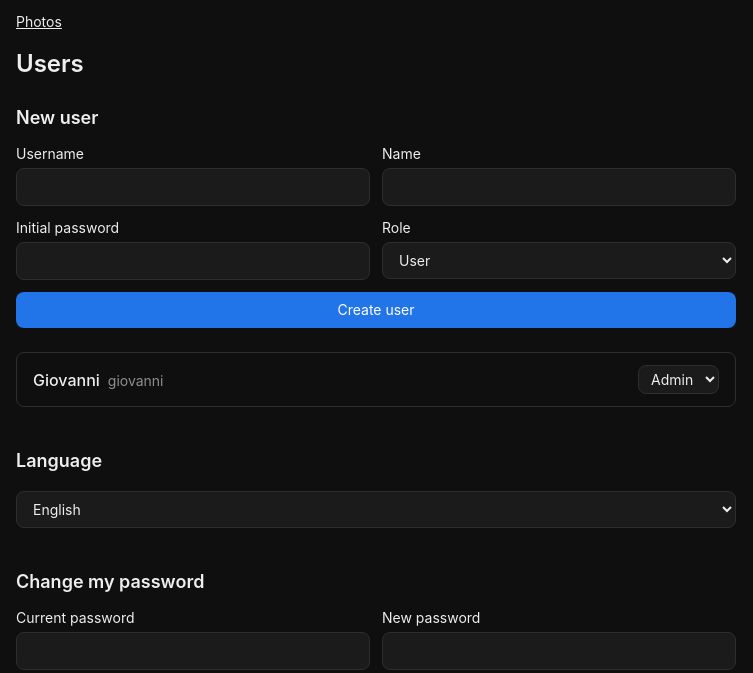
Test: UsersView › dopo la creazione Bob compare nell’elenco
The image size is (753, 673).
Type "bob" into the field with test id "users-username". click: (193, 187)
box: [16,168,370,206]
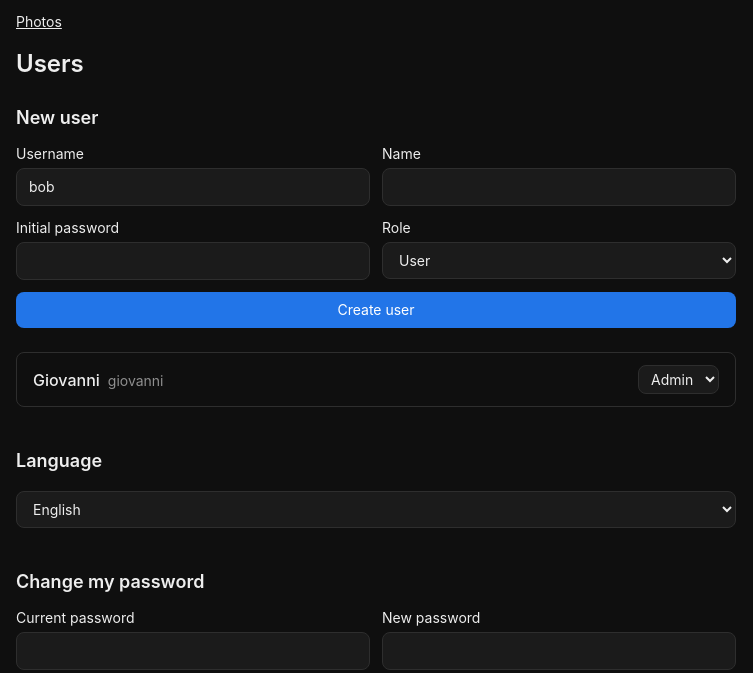
Type "Bob" into the field with test id "users-display-name". click: (559, 187)
box: [382,168,736,206]
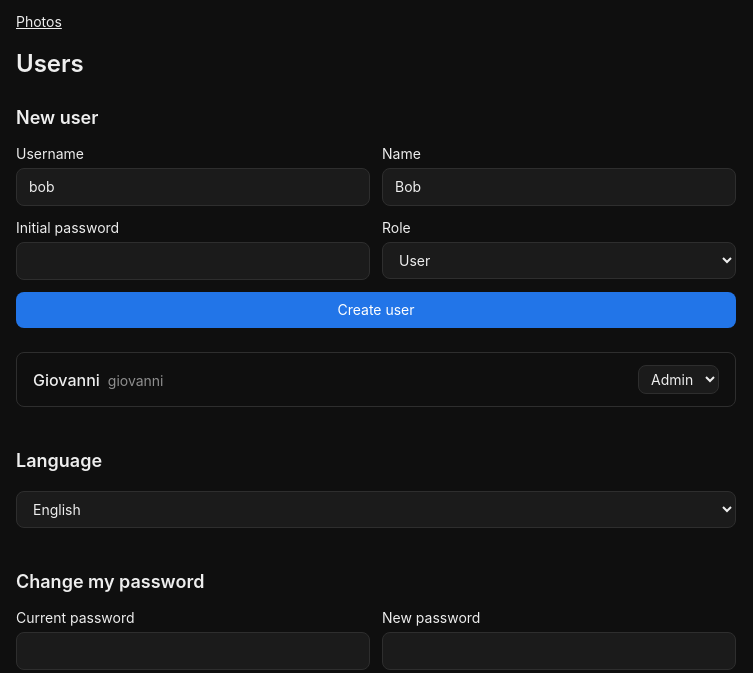
Type "bob-password-ok" into the password field with test id "users-password". click: (193, 261)
box: [16,242,370,280]
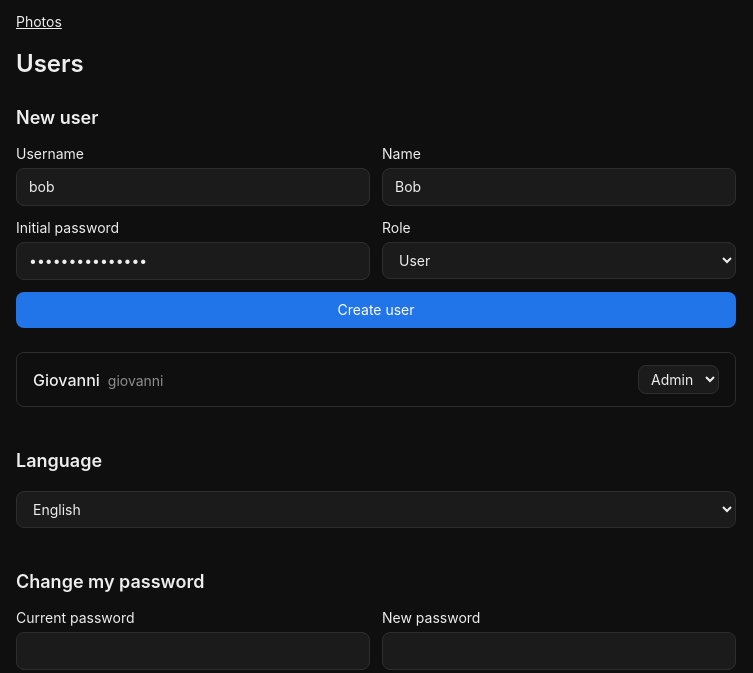
Click the button with test id "users-create". click: (376, 310)
box: [16,292,736,328]
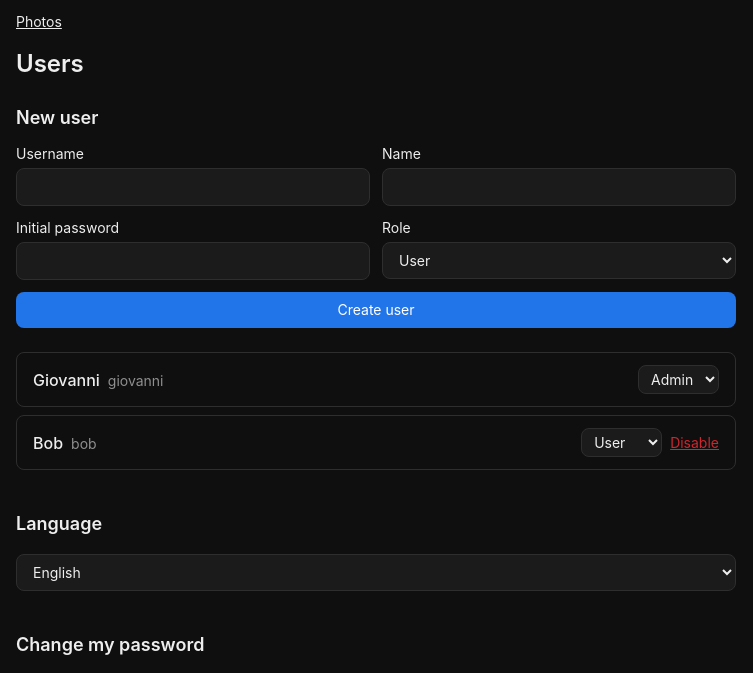
Expected: the list with test id "users-list" shows "Bob", [33,432,63,452]
